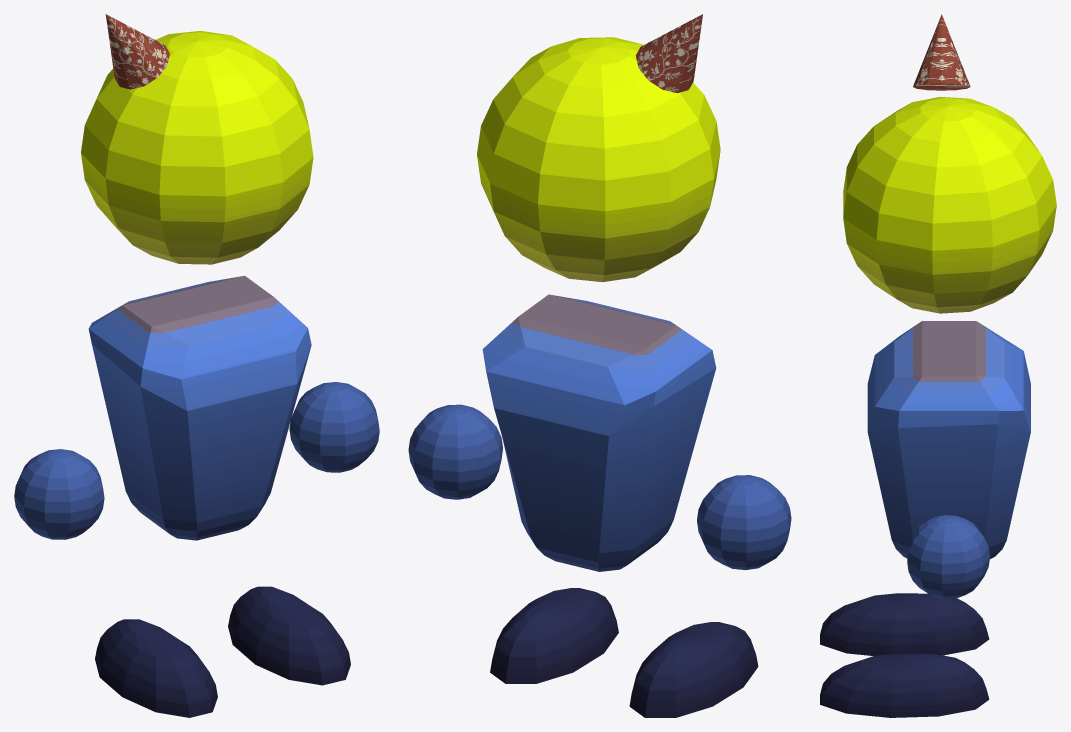
File: person.fbx
3 views of the same model, side by side, from view 1: azimuth 30°, elevation 25°; view 2: azimuth 150°, elevation 25°; view 3: azimuth 270°, elevation 25° (orthographic). The views are drawn at different scales.
Parts seen in each view (by area): view 1: Cone; view 2: Cone; view 3: Cone.
Part boxes in pixels (x1=…): Cone: x1=14, y1=14, x2=379, y2=717; Cone: x1=408, y1=14, x2=791, y2=717; Cone: x1=820, y1=14, x2=1056, y2=717.
Size of the model in its own units: 622 by 1110 by 389.
